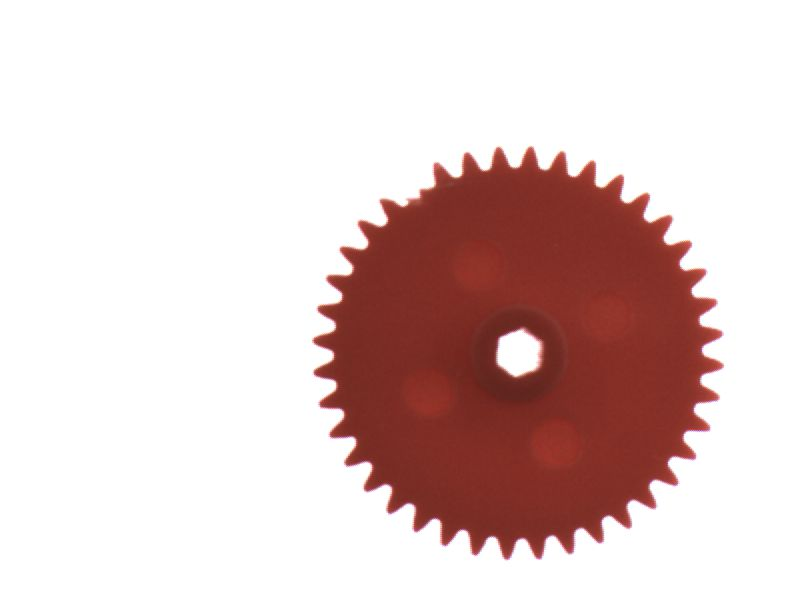defect_lack: (364, 152, 454, 217)
